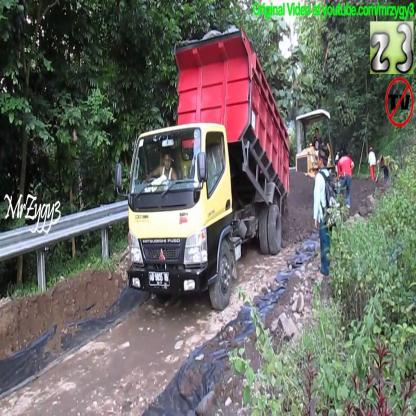truck: (120, 25, 293, 313)
